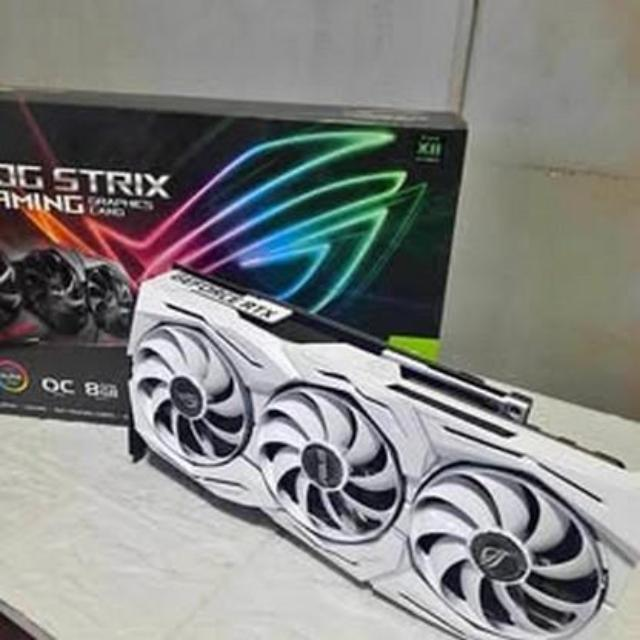GPU: (122, 268, 640, 640)
